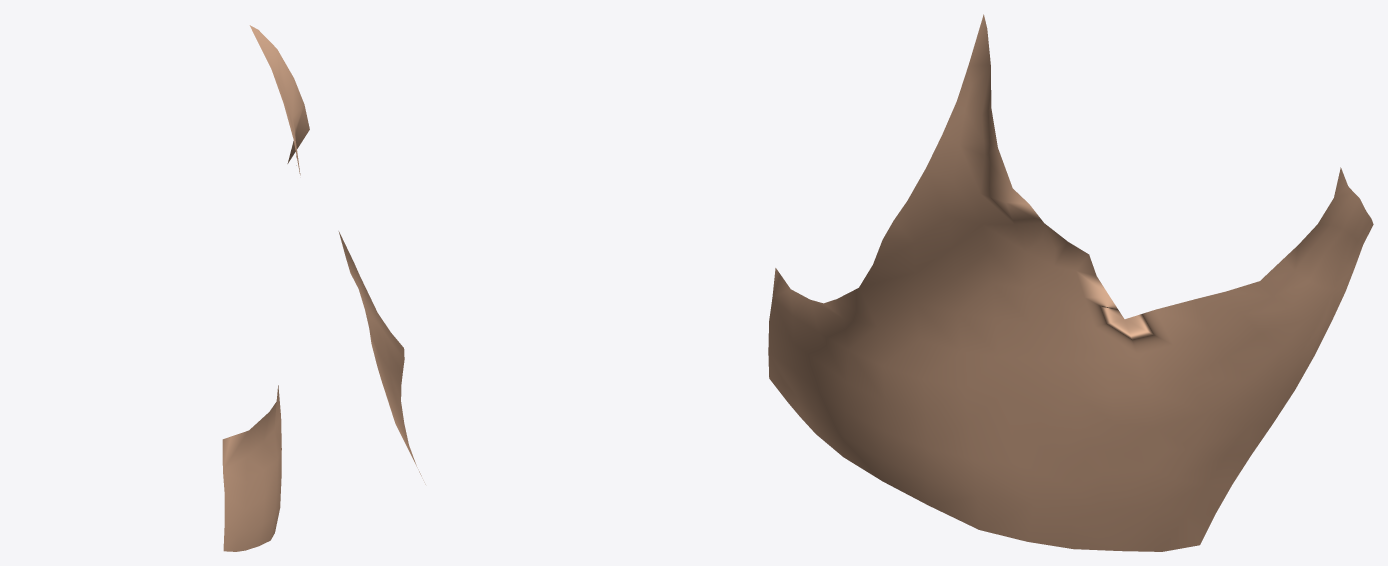
Rendered from lateral-region-of-thorax-l.glb.
3 views of the same model, side by side, from view 1: azimuth 30°, elevation 25°; view 2: azimuth 150°, elevation 25°; view 3: azimuth 270°, elevation 25° (orthographic). The views are drawn at different scales.
Parts seen in each view (by area): view 1: Lateral region of thorax.l; view 2: Lateral region of thorax.l; view 3: Lateral region of thorax.l.
Part boxes in pixels (x1=…): Lateral region of thorax.l: x1=222, y1=25, x2=309, y2=551; Lateral region of thorax.l: x1=338, y1=231, x2=425, y2=484; Lateral region of thorax.l: x1=768, y1=14, x2=1373, y2=551.
Size of the model in its own units: 0.0995 by 0.2438 by 0.2475.
